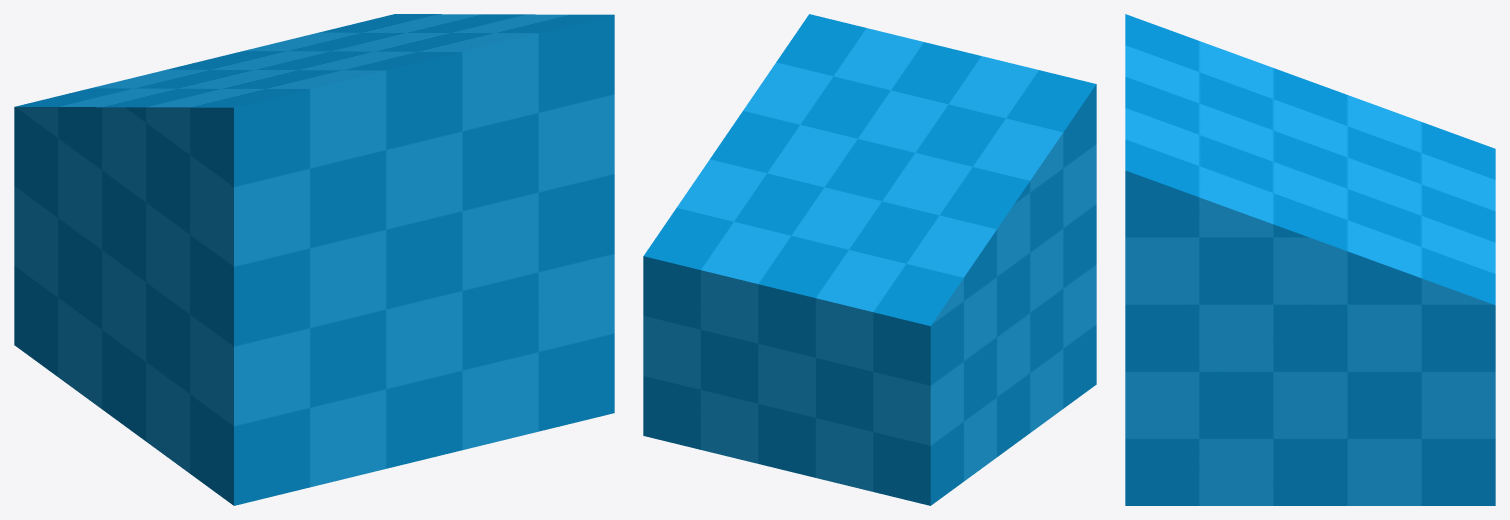
File: ClippedCube264.FBX
3 views of the same model, side by side, from view 1: azimuth 30°, elevation 25°; view 2: azimuth 150°, elevation 25°; view 3: azimuth 270°, elevation 25° (orthographic). The views are drawn at different scales.
Visible parts, largest first — view 1: ClippedCube; view 2: ClippedCube; view 3: ClippedCube.
Part boxes in pixels (left/top/right/bottom): ClippedCube: left=14, top=14, right=614, bottom=505; ClippedCube: left=643, top=14, right=1096, bottom=505; ClippedCube: left=1125, top=14, right=1495, bottom=505.
Size of the model in its own units: 150 by 150 by 150.
